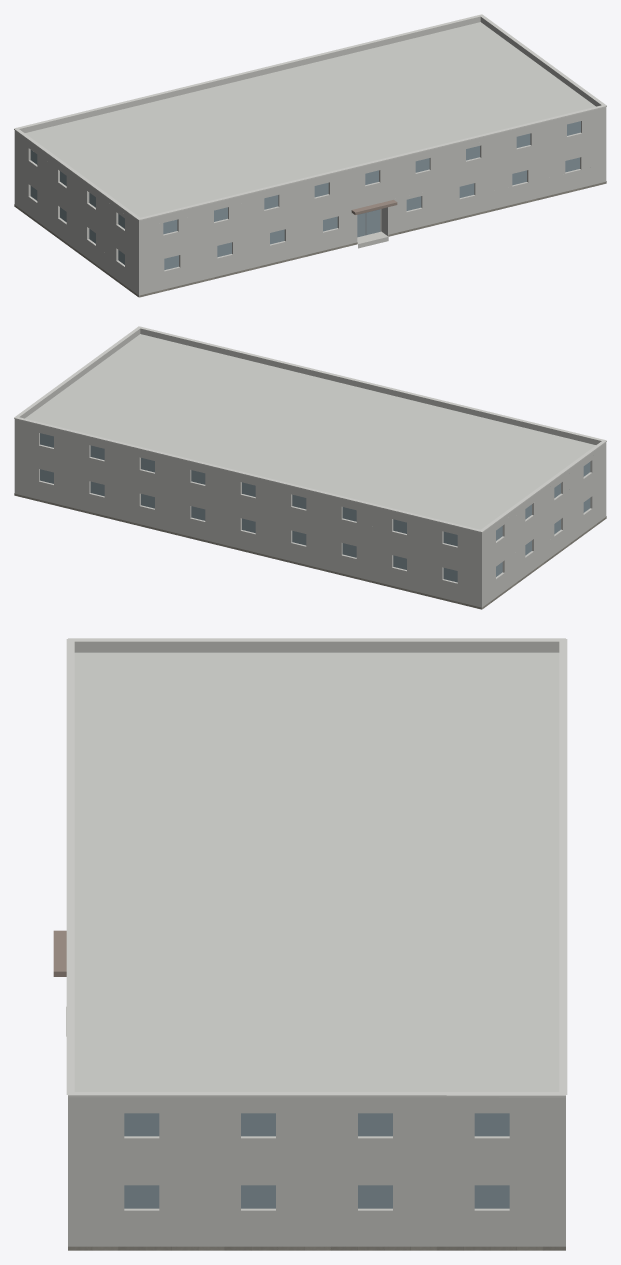
The picture shows the model from 3 angles, top to bottom: view 1: azimuth 30°, elevation 25°; view 2: azimuth 150°, elevation 25°; view 3: azimuth 270°, elevation 25°; orthographic projection. The views are drawn at different scales.
Parts seen in each view (by area): view 1: osm631011003__roof, osm631011003__wall, osm631011003__parapet, osm631011003__glass, osm631011003__trim, osm631011003__base; view 2: osm631011003__roof, osm631011003__wall, osm631011003__parapet, osm631011003__trim, osm631011003__glass, osm631011003__base; view 3: osm631011003__roof, osm631011003__wall, osm631011003__trim, osm631011003__parapet, osm631011003__glass, osm631011003__base.
Boxes of the visible parts, left/top/right/bottom form: osm631011003__roof: left=25, top=22, right=595, bottom=217; osm631011003__wall: left=14, top=111, right=606, bottom=296; osm631011003__parapet: left=14, top=16, right=606, bottom=225; osm631011003__glass: left=30, top=121, right=580, bottom=269; osm631011003__trim: left=14, top=14, right=606, bottom=220; osm631011003__base: left=14, top=181, right=606, bottom=297; osm631011003__roof: left=25, top=334, right=595, bottom=529; osm631011003__wall: left=14, top=423, right=606, bottom=608; osm631011003__parapet: left=14, top=328, right=606, bottom=537; osm631011003__trim: left=14, top=326, right=606, bottom=532; osm631011003__glass: left=40, top=433, right=590, bottom=582; osm631011003__base: left=14, top=493, right=606, bottom=609; osm631011003__roof: left=74, top=652, right=559, bottom=1091; osm631011003__wall: left=68, top=1106, right=565, bottom=1246; osm631011003__trim: left=66, top=638, right=567, bottom=1097; osm631011003__parapet: left=68, top=641, right=565, bottom=1105; osm631011003__glass: left=124, top=1113, right=509, bottom=1208; osm631011003__base: left=68, top=1246, right=565, bottom=1250.
Bounding box in the file's own units: 48.9 × 8.15 × 23.23.
Materials: 10 (1 with a texture image).
